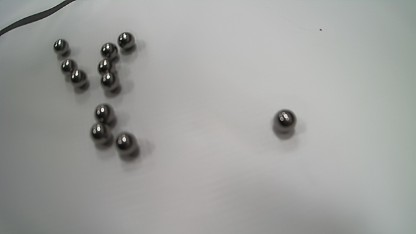ironball: (115, 132, 139, 160), (273, 109, 296, 133), (90, 122, 113, 146), (94, 103, 116, 127), (101, 72, 120, 92), (70, 69, 88, 89), (117, 32, 135, 51), (100, 42, 118, 60), (97, 58, 115, 75), (61, 59, 77, 76), (53, 39, 69, 56)
